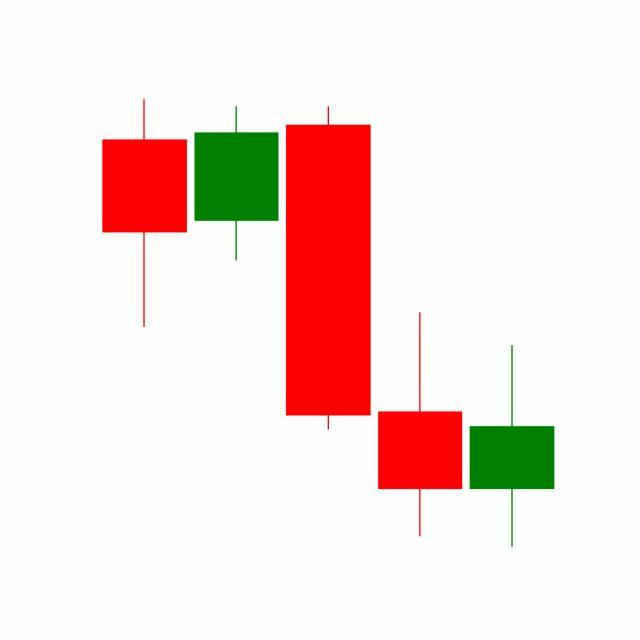Three Outside Up-Down: (190, 102, 467, 542)
